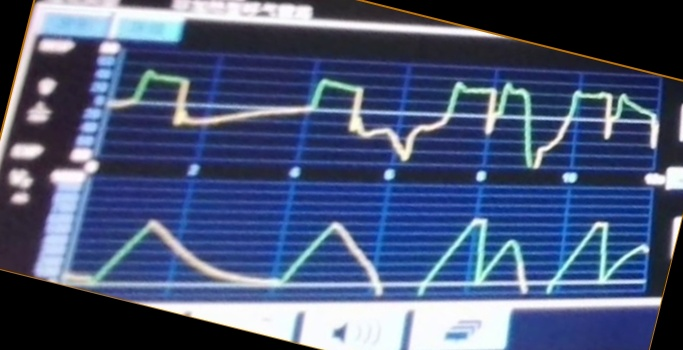Double_Triggering Flow: (122, 66, 653, 169)
Double_Triggering Volume: (97, 206, 648, 295)
